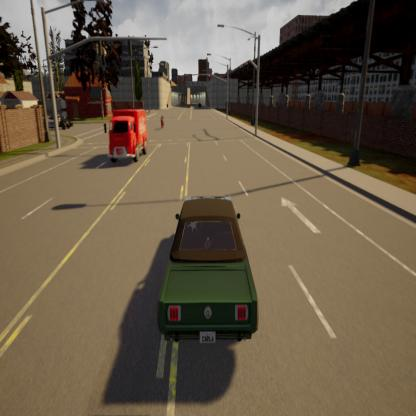Cars: (154, 190, 264, 354), (103, 104, 151, 170), (41, 111, 75, 132), (198, 101, 202, 110)
